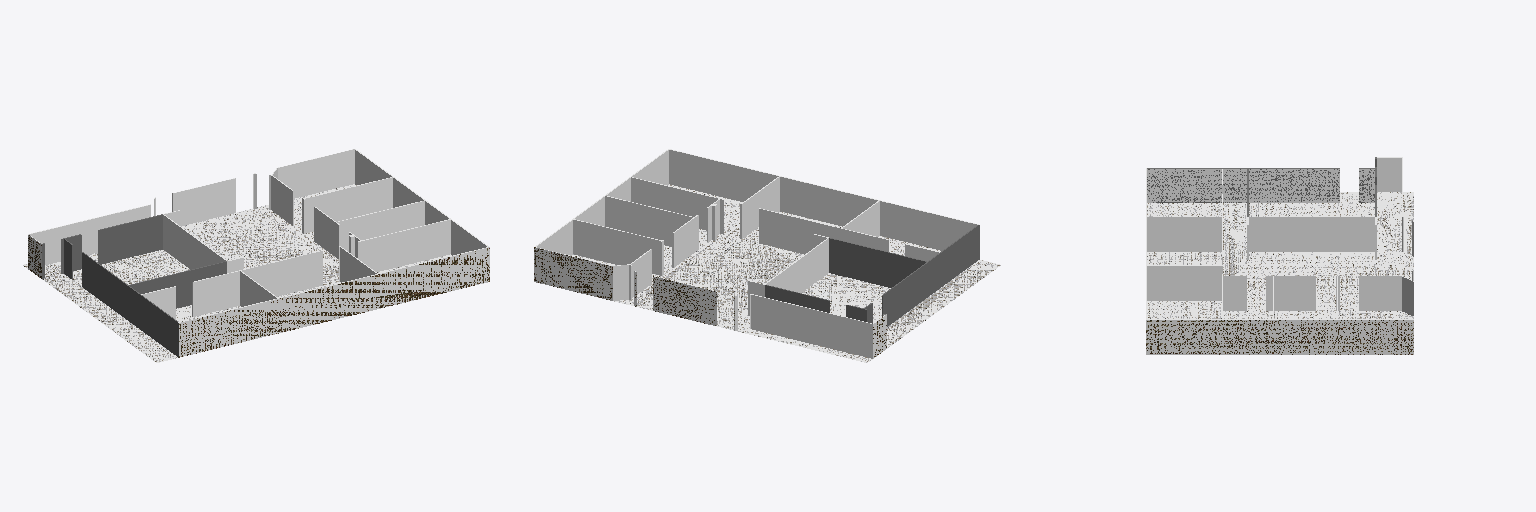
The picture shows the model from 3 angles: view 1: azimuth 30°, elevation 25°; view 2: azimuth 150°, elevation 25°; view 3: azimuth 270°, elevation 25°; orthographic projection.
Parts seen in each view (by area): view 1: Mesh1 Model; view 2: Mesh1 Model; view 3: Mesh1 Model.
Boxes of the visible parts, x1,y1,x2,y2 form: Mesh1 Model: [23, 149, 489, 362]; Mesh1 Model: [534, 149, 1000, 362]; Mesh1 Model: [1146, 157, 1413, 354].
Bounding box in the file's own units: 30.05 × 3 × 21.
Materials: 8 (3 with a texture image).